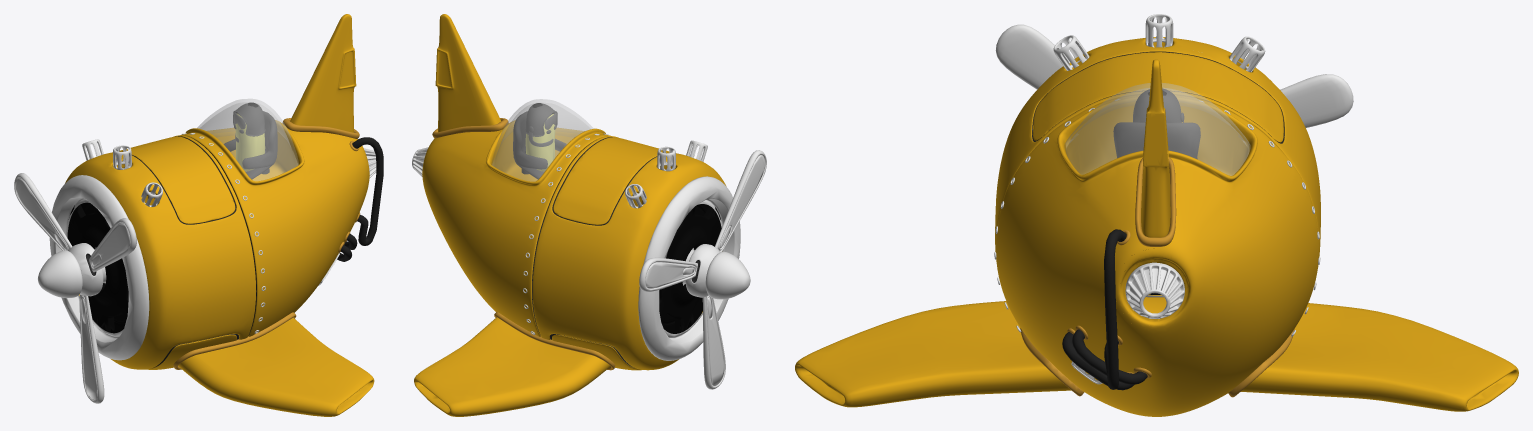
3 views of the same model, side by side, from view 1: azimuth 30°, elevation 25°; view 2: azimuth 150°, elevation 25°; view 3: azimuth 270°, elevation 25° (orthographic). The views are drawn at different scales.
Visible parts, largest first — view 1: Cylinder_0, Circle.003_7, Cylinder.003_4, Circle_3, Cylinder.006_24, Plane.001_11, Circle.004_8, BezierCurve.005_36, Plane.006_31, Cube_30, Circle.002_6, Cube.001_25 (+4 smaller); view 2: Cylinder_0, Circle.003_7, Cylinder.003_4, Circle_3, Cylinder.006_24, Plane.001_11, Circle.004_8, Plane.006_31, Circle.002_6, Cube_30, Cylinder.002_2, Cube.001_25 (+3 smaller); view 3: Cylinder_0, Circle.003_7, Cylinder.006_24, Cylinder.003_4, Plane.001_11, Circle.001_5, Plane.006_31, BezierCurve.005_36, Cylinder.002_2, Plane.002_12, Circle.002_6, BezierCurve.004_35 (+3 smaller).
Part boxes in pixels (x1,y1,x2,y2): Cylinder_0: (65, 120, 369, 369); Circle.003_7: (178, 317, 374, 416); Cylinder.003_4: (14, 173, 136, 403); Circle_3: (49, 175, 149, 360); Cylinder.006_24: (197, 99, 298, 180); Plane.001_11: (290, 14, 356, 132); Circle.004_8: (68, 204, 128, 331); BezierCurve.005_36: (352, 137, 383, 245); Plane.006_31: (224, 111, 277, 179); Cube_30: (235, 113, 265, 171); Circle.002_6: (173, 312, 296, 369); Cube.001_25: (233, 102, 265, 136); Cylinder_0: (422, 120, 726, 370); Circle.003_7: (414, 317, 610, 416); Cylinder.003_4: (639, 150, 766, 389); Circle_3: (638, 176, 740, 360); Cylinder.006_24: (491, 99, 593, 181); Plane.001_11: (435, 14, 500, 132); Circle.004_8: (659, 206, 720, 332); Plane.006_31: (513, 111, 566, 179); Circle.002_6: (494, 312, 615, 370); Cube_30: (525, 114, 555, 171); Cylinder.002_2: (625, 140, 707, 208); Cube.001_25: (525, 103, 557, 136); Cylinder_0: (995, 37, 1320, 416); Circle.003_7: (795, 301, 1518, 411); Cylinder.006_24: (1064, 83, 1250, 175); Cylinder.003_4: (995, 24, 1353, 127); Plane.001_11: (1141, 59, 1170, 237); Circle.001_5: (1125, 262, 1184, 318); Plane.006_31: (1113, 122, 1200, 159); BezierCurve.005_36: (1104, 229, 1126, 389); Cylinder.002_2: (1053, 35, 1265, 72); Plane.002_12: (1135, 157, 1176, 246); Circle.002_6: (1020, 328, 1294, 397); BezierCurve.004_35: (1072, 329, 1147, 384).
Bounding box in the file's own units: 2.58 × 2.34 × 3.29.
